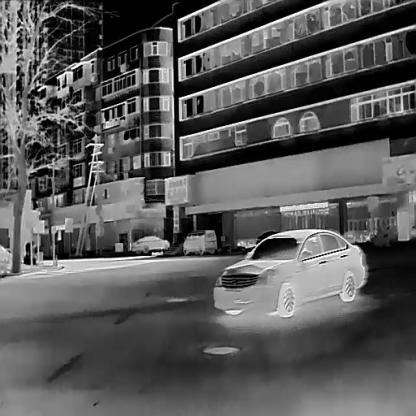car: (213, 229, 369, 316), (183, 228, 216, 255), (130, 233, 170, 254)
